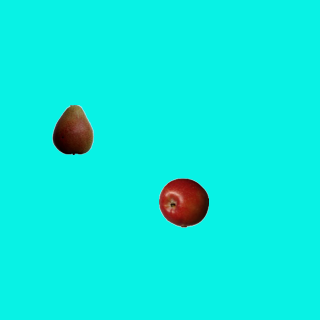Apple Braeburn: (158, 177, 208, 227)
Pear Forelle: (47, 104, 97, 154)
